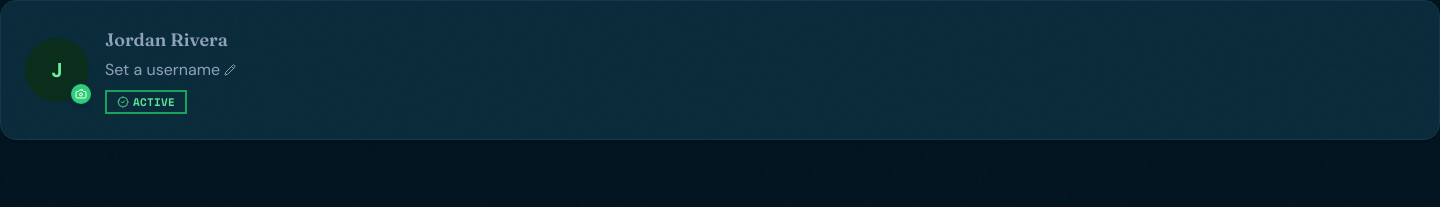
ProfileCard username editing › still rejects an invalid-pattern username before ever checking the reserved list
The image size is (1440, 207).
Click the button "Set a username" at coordinates (170, 70), box [105,58,236,82]
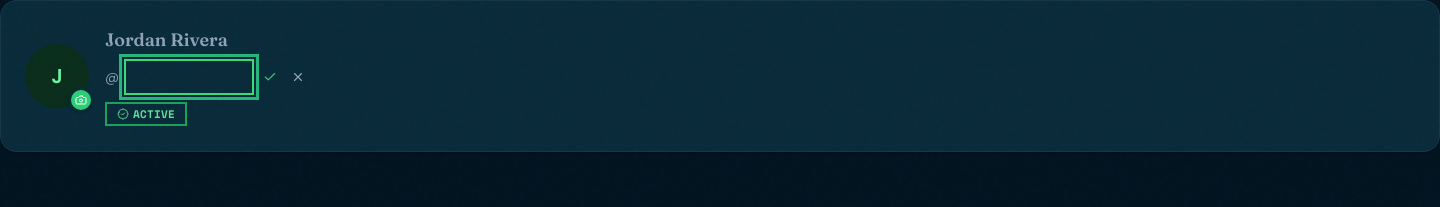
Type "ab" into the field named "Username" at coordinates (189, 77), box [125,60,253,94]
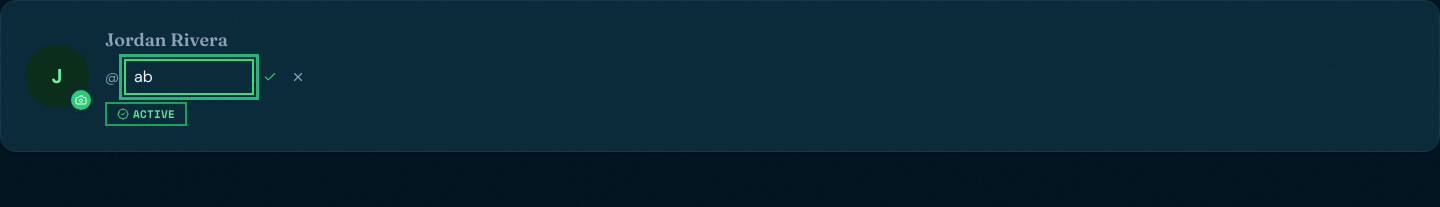
Click the button named "Save username" at coordinates (270, 77), box [259,66,281,88]
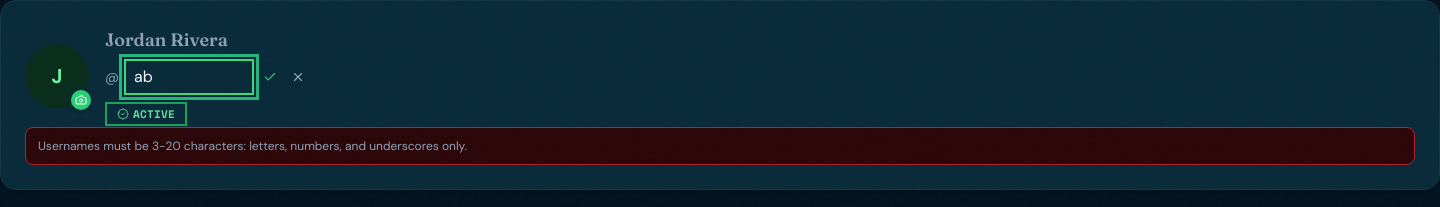
Now the text "3-20 characters" is shown, box [38,138,467,154]
